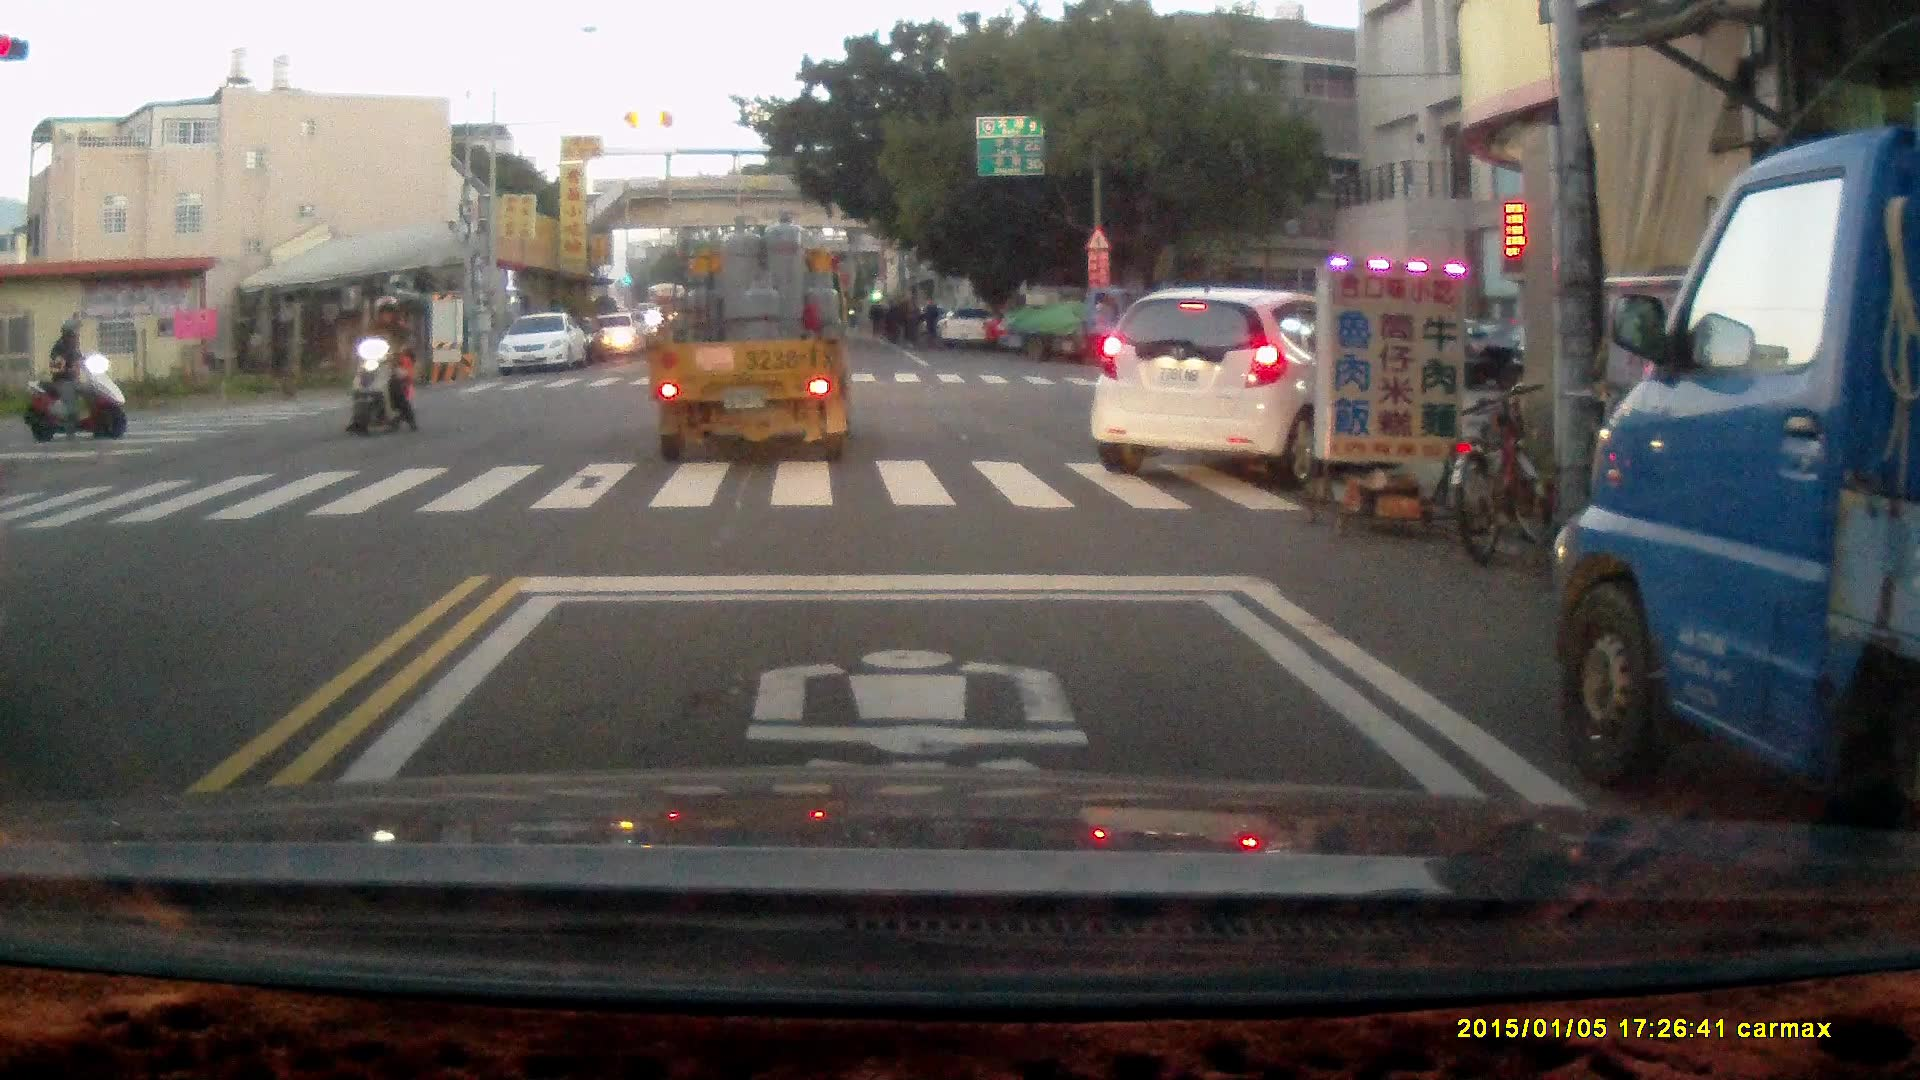rider: (19, 317, 125, 439), (344, 295, 417, 439)
vehicle: (1562, 132, 1920, 839), (1092, 289, 1385, 469), (647, 241, 853, 462), (1002, 284, 1170, 367), (501, 312, 588, 379), (592, 311, 642, 360)
